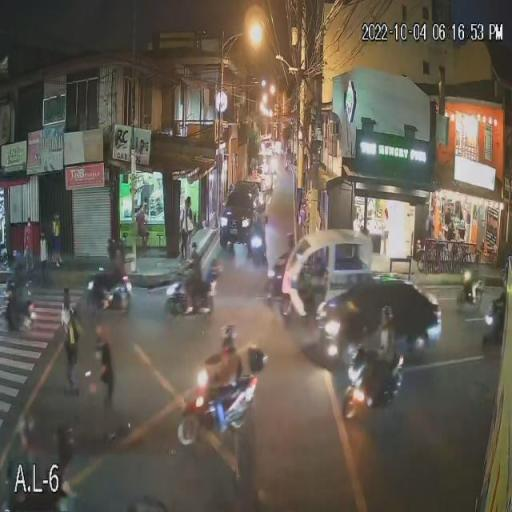helmet: (221, 323, 237, 341), (380, 306, 392, 319), (194, 244, 206, 257), (106, 238, 118, 250)
motorcycle: (176, 359, 263, 448), (340, 346, 406, 422), (165, 272, 220, 318), (86, 270, 134, 314), (265, 276, 301, 322), (3, 281, 33, 334), (456, 269, 486, 308)
rider: (202, 324, 244, 430), (364, 306, 398, 388), (184, 248, 214, 312), (104, 234, 129, 304), (6, 250, 30, 318), (267, 248, 288, 302), (463, 254, 481, 300)
